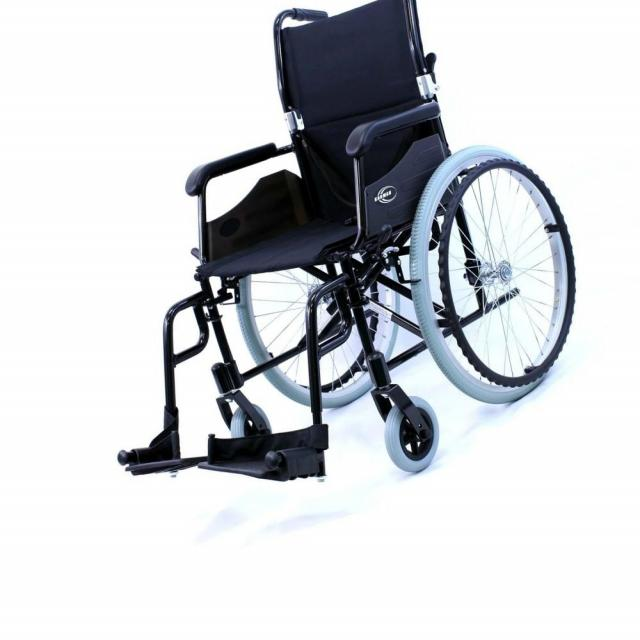wheelchair: (92, 0, 600, 501)
